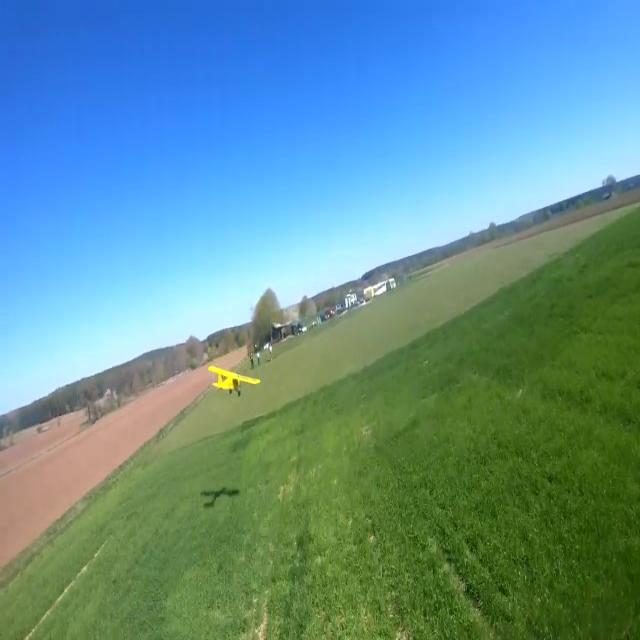iha: (205, 363, 261, 400)
